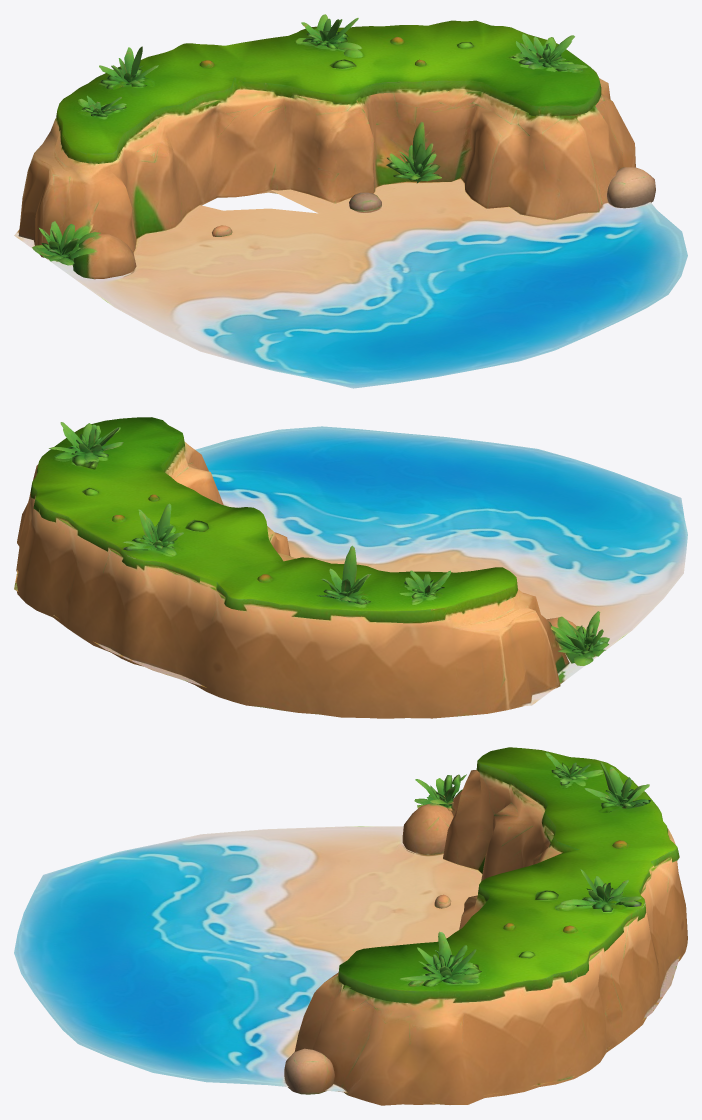
The model's file is s2_r2c5_sandy_cove_shoreline.glb.
The picture shows the model from 3 angles, top to bottom: view 1: azimuth 30°, elevation 25°; view 2: azimuth 150°, elevation 25°; view 3: azimuth 270°, elevation 25°; orthographic projection. The views are drawn at different scales.
Bounding box in the file's own units: 1 × 0.2384 × 0.995.
Materials: 1 (1 with a texture image).
